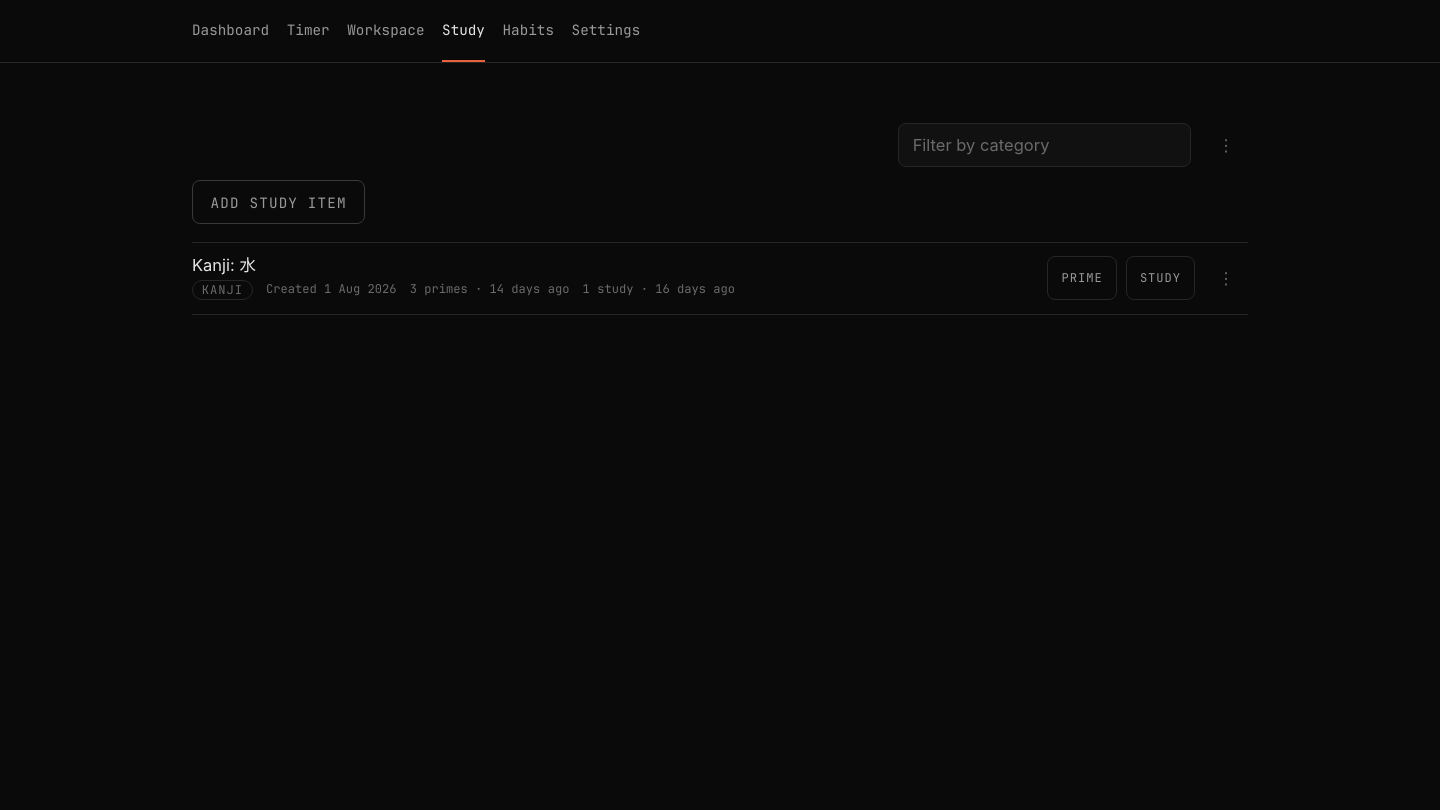
logging interactions › stays silent when the interaction is rejected
Step 1. Click the button with aria-label "log prime for kanji: 水" → (1082, 278), box [1047,256,1117,300]
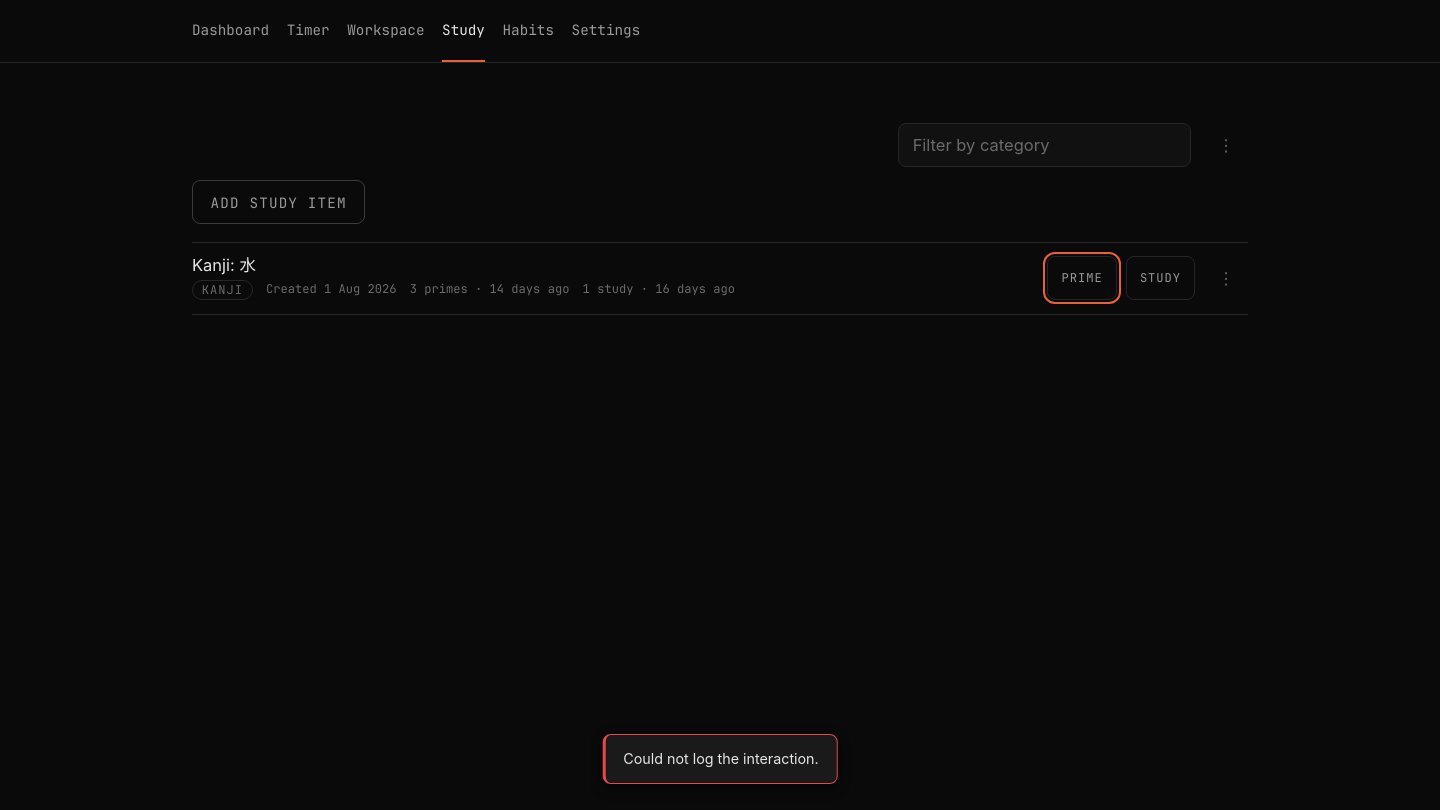
Result: the text "Could not log the interaction." is shown at [603,734,837,784]
